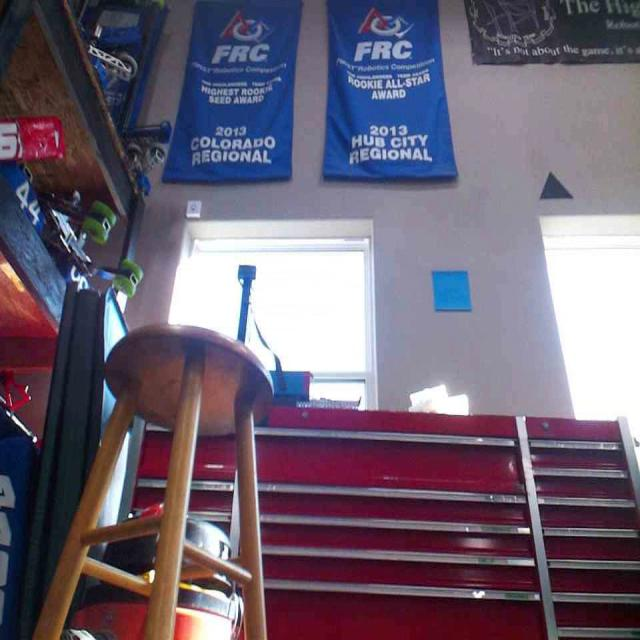square_blue: (431, 270, 472, 310)
triangle_black: (539, 170, 575, 200)
